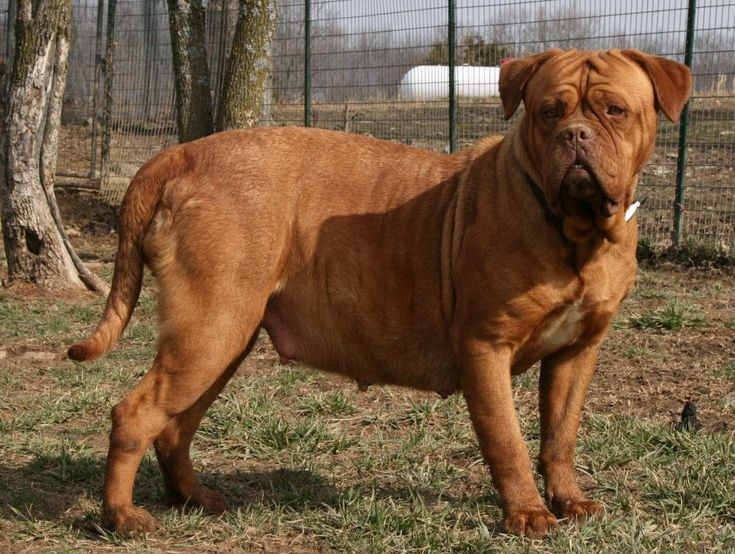dogue_de_bordeaux: (64, 46, 693, 539)
